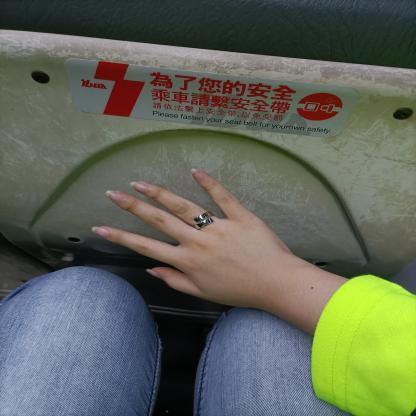bare_hand: (85, 165, 312, 317)
